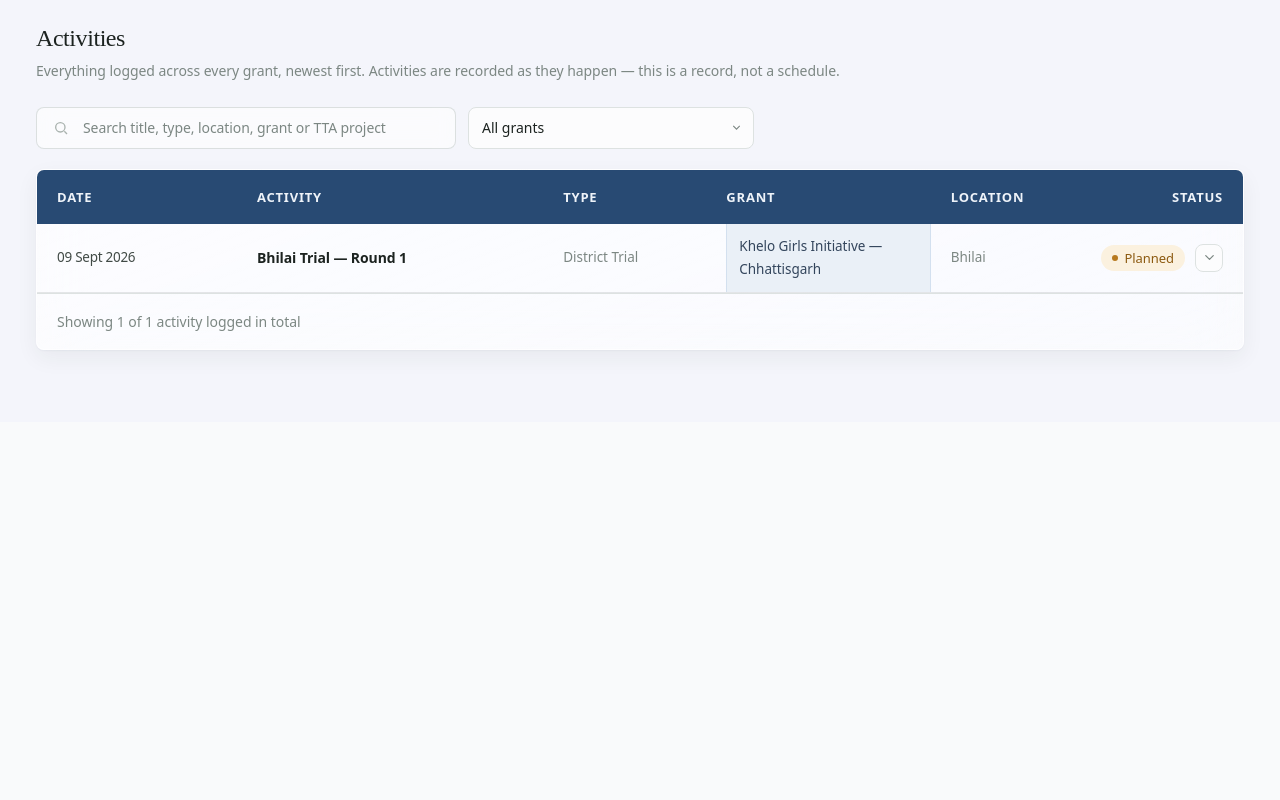
Test case: the names an activity carries › an activity with no TTA project says so in the detail
Click the button named "Show details for Bhilai Trial" at (1209, 258), box [1195,244,1223,272]
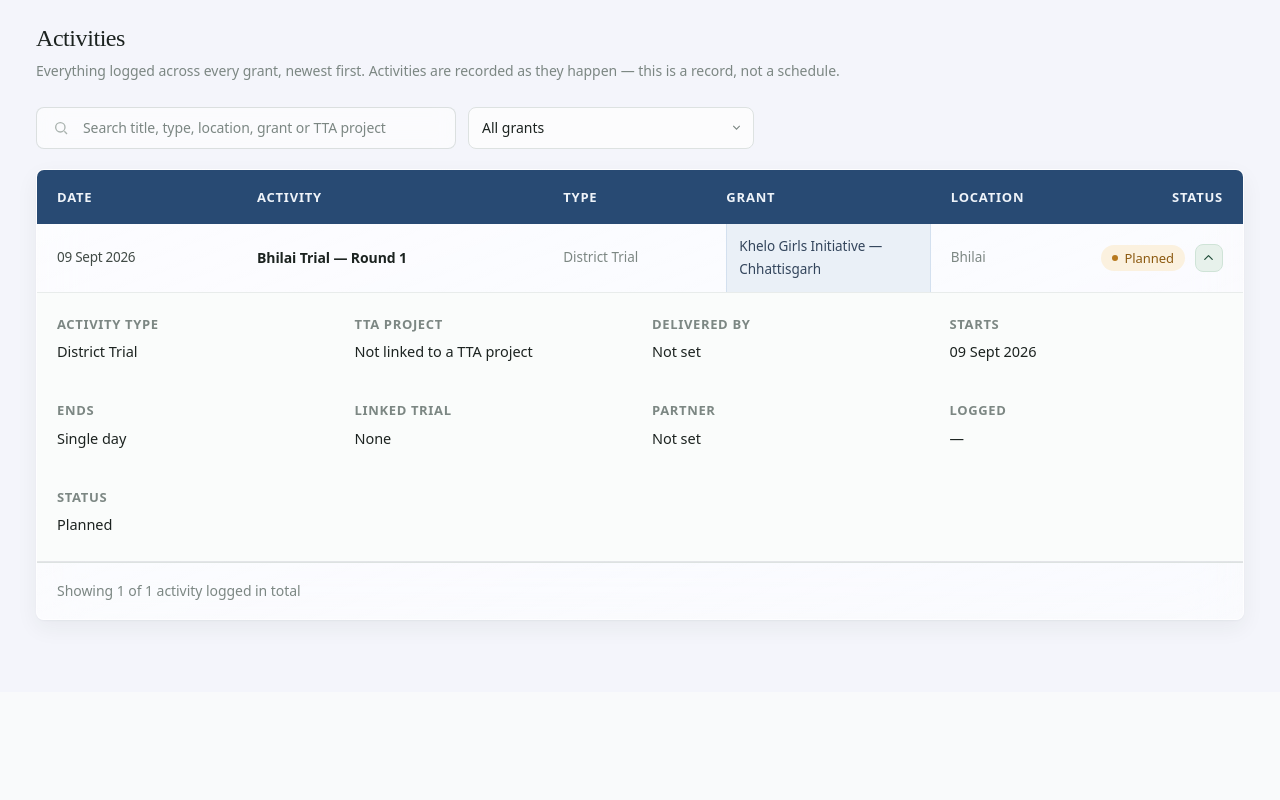
Expected: the text "Not linked to a TTA project" is shown, [354,341,533,361]
Expected: the text "None" is shown, [354,428,391,448]
